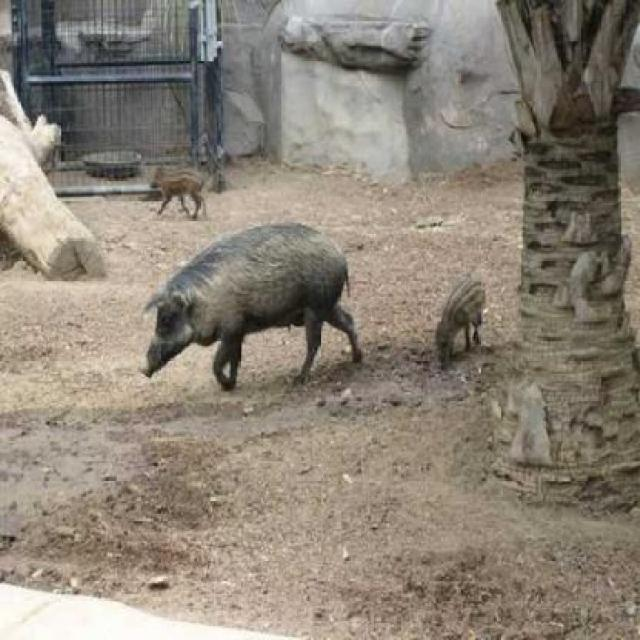pig: (123, 209, 385, 458), (414, 257, 524, 416), (118, 134, 222, 228)
